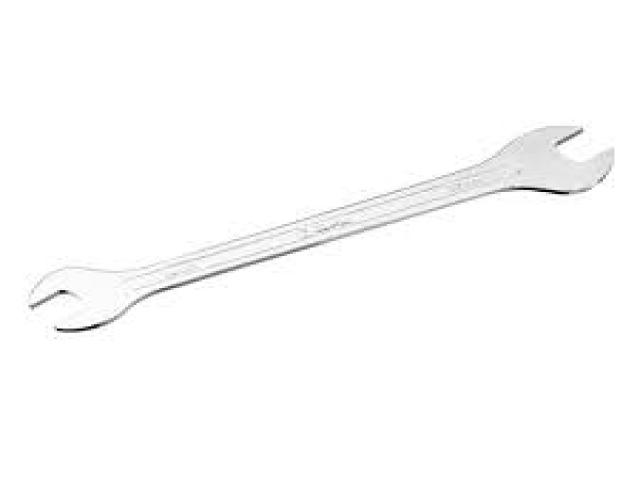Wrench: (29, 127, 614, 331)
